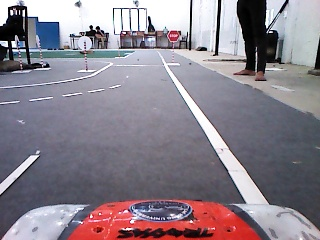stop: (166, 29, 183, 43)
